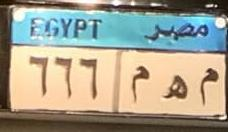6: (76, 54, 104, 106), (27, 54, 51, 99), (54, 53, 75, 102)
haa: (159, 72, 191, 105)
meem: (128, 62, 154, 108), (196, 65, 220, 109)
